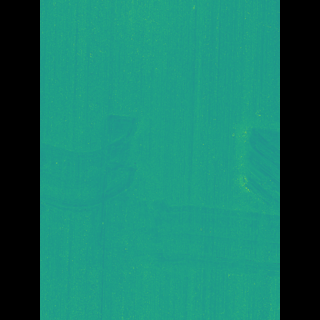Loch: (136, 111, 251, 271), (70, 111, 145, 227)
